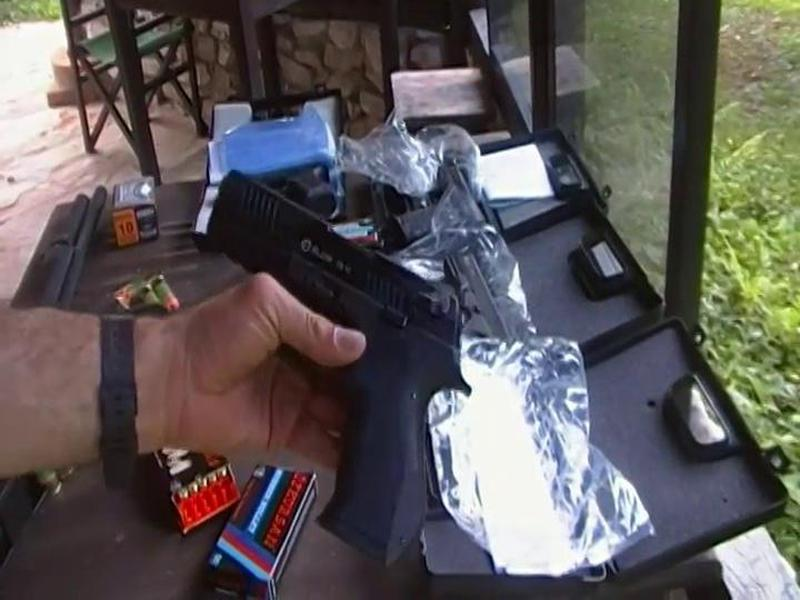Pistola: (195, 163, 441, 553)
